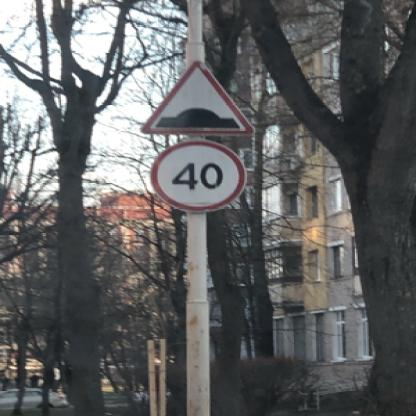Speed Limit 40: (152, 141, 246, 214)
